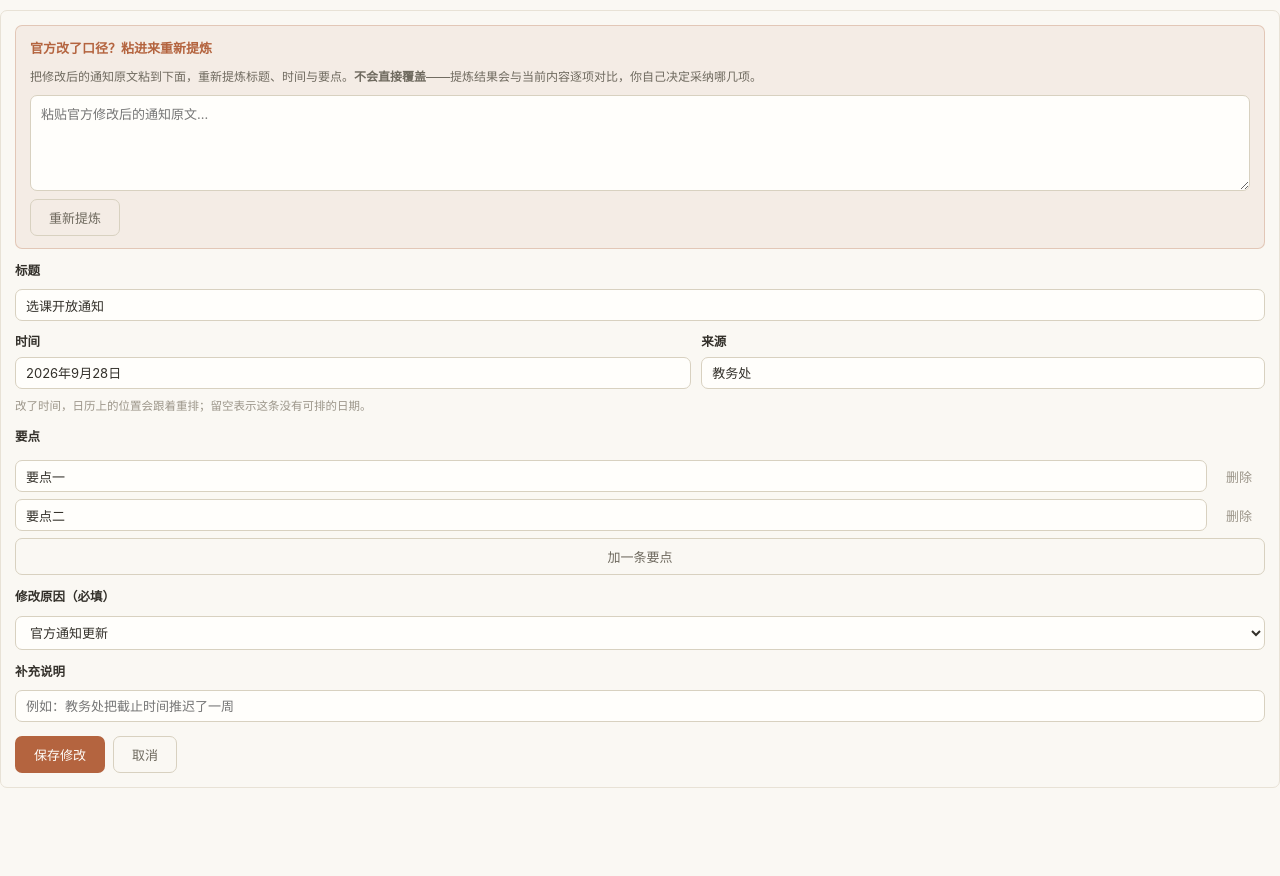
CardEditForm 官方改口径：粘贴原文重新提炼 › 点某一项的「采纳」只改那一项
Type "官方新原文" into the text box named "官方修改后的原文". click: (640, 143)
box: [30, 95, 1250, 191]
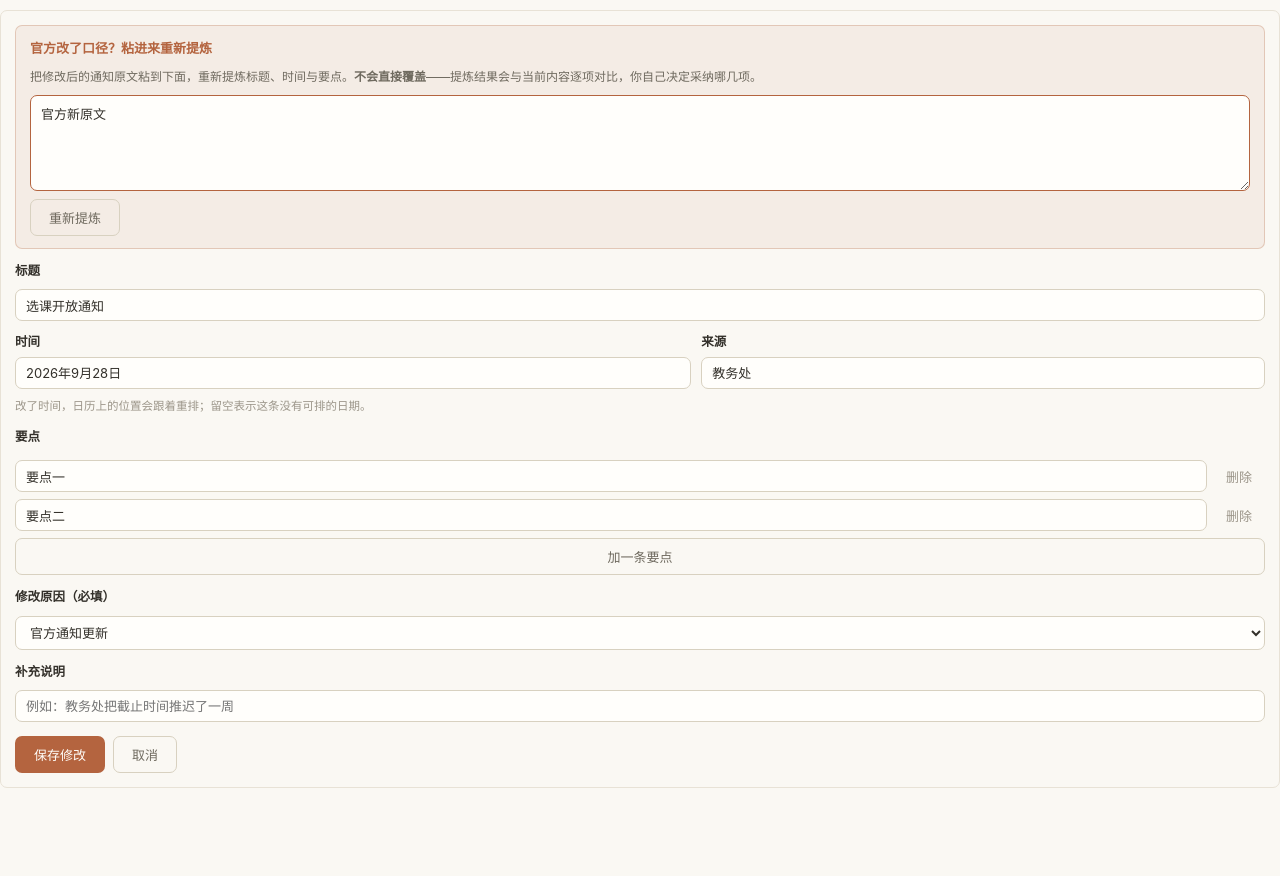
Click the button "重新提炼". click: (75, 217)
box: [30, 199, 120, 236]
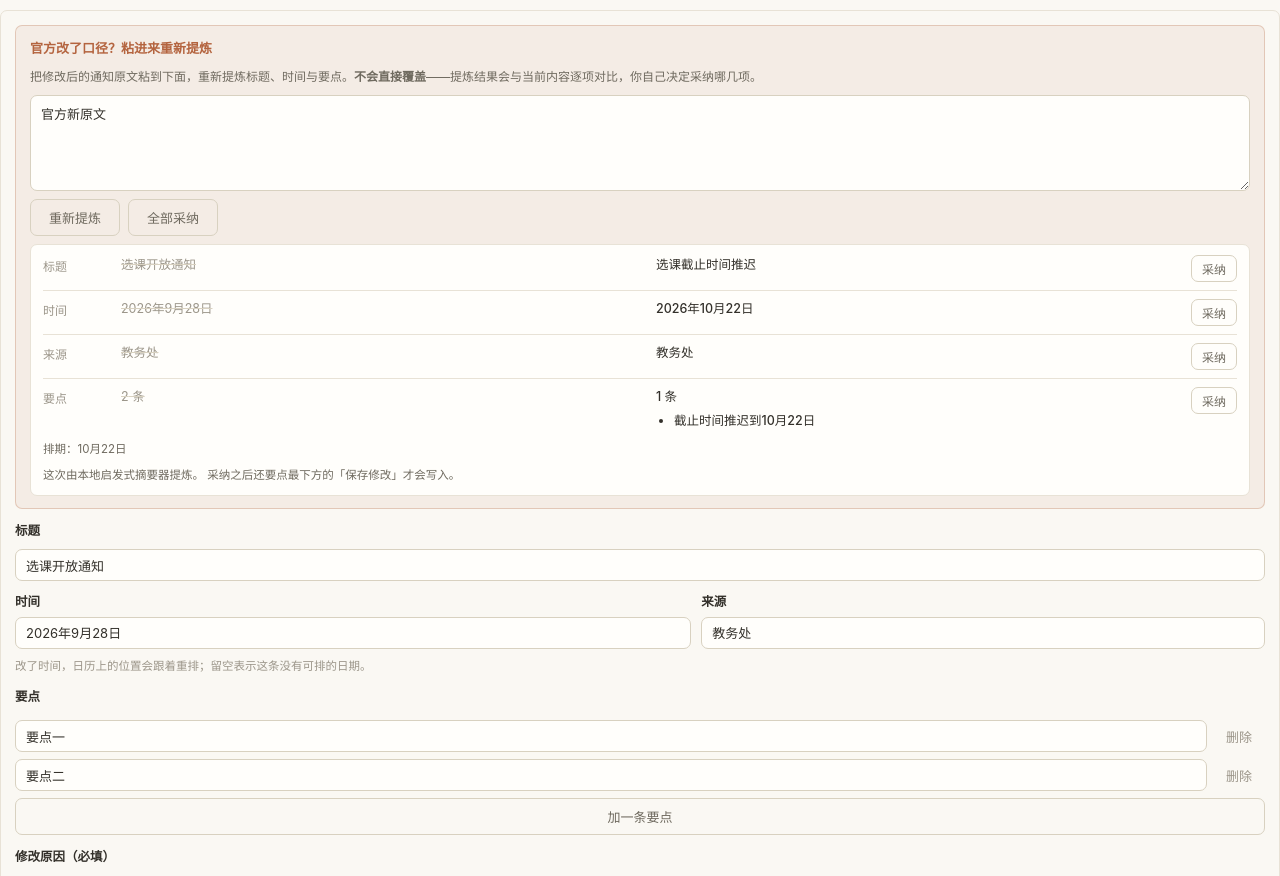
// 只采纳"时间"这一行
Click the button "采纳" in the row of "2026年10月22日". click: (1214, 312)
box: [1191, 299, 1237, 326]
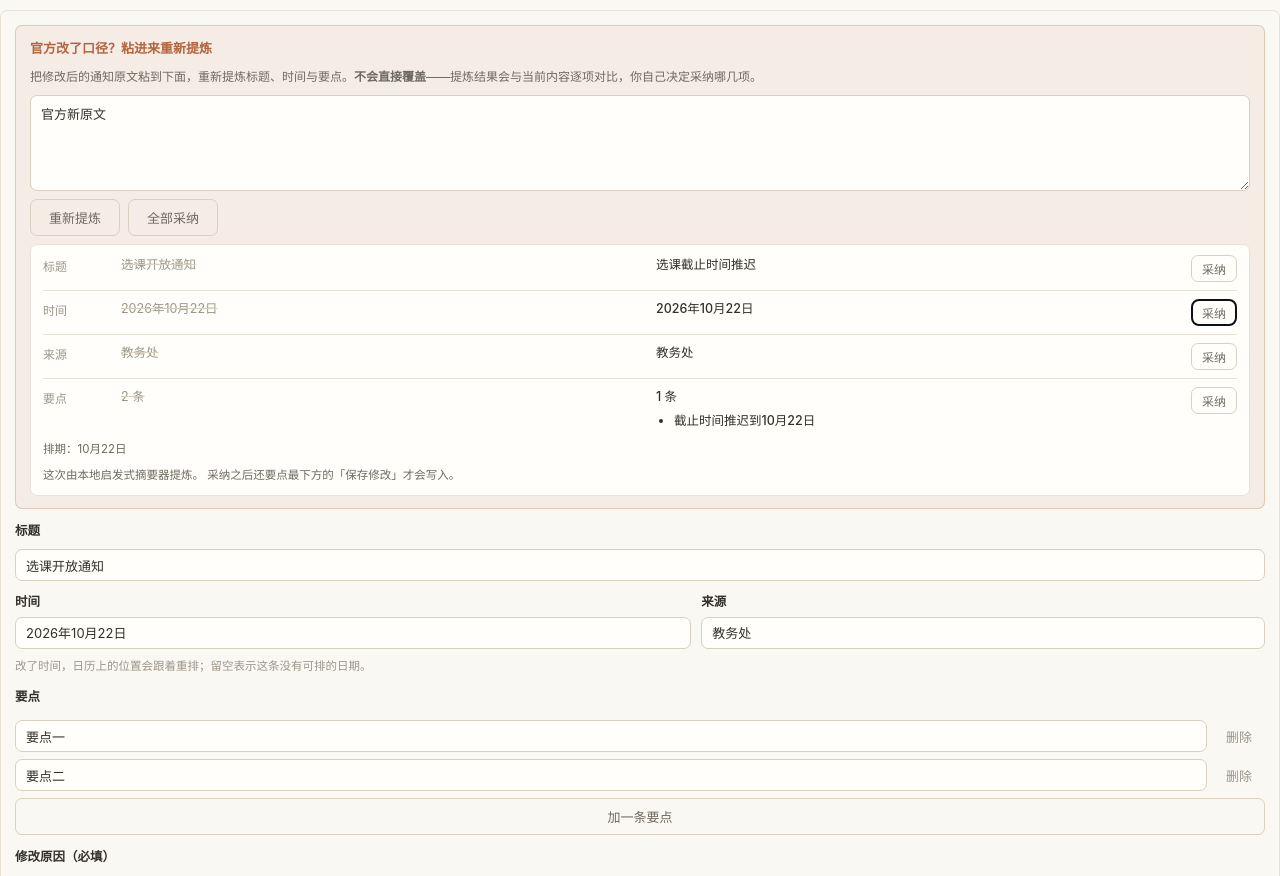
Expected: the field labelled "标题" holds "选课开放通知", [15, 549, 1265, 581]
Result: the field labelled "时间" holds "2026年10月22日" at [15, 617, 691, 649]
